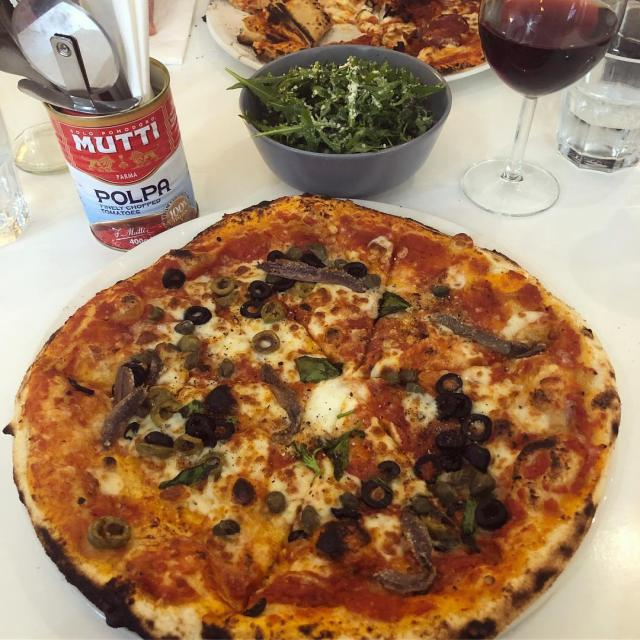basil: (9, 194, 620, 640), (285, 426, 364, 484), (154, 463, 216, 493), (292, 352, 348, 384), (373, 283, 411, 321), (462, 498, 479, 540), (178, 395, 202, 417)
black_olives: (182, 410, 234, 446), (435, 371, 473, 418), (409, 447, 461, 481), (354, 475, 396, 510), (457, 407, 494, 444), (475, 498, 510, 531), (453, 439, 490, 470), (203, 382, 236, 411), (245, 278, 295, 296), (322, 503, 361, 524), (432, 430, 466, 450), (125, 360, 150, 385), (144, 428, 174, 448), (161, 267, 185, 292), (182, 306, 212, 326), (242, 598, 270, 619), (238, 296, 262, 320), (443, 497, 468, 518), (298, 252, 326, 270), (376, 459, 400, 478), (284, 529, 308, 547), (345, 261, 367, 279), (122, 421, 139, 441), (265, 247, 287, 262)
green_olives: (83, 511, 131, 552), (176, 432, 226, 469), (148, 387, 181, 422), (210, 272, 240, 307), (422, 514, 451, 541), (134, 440, 173, 460), (250, 329, 281, 354), (176, 332, 204, 352), (260, 301, 284, 322), (294, 280, 318, 298)
